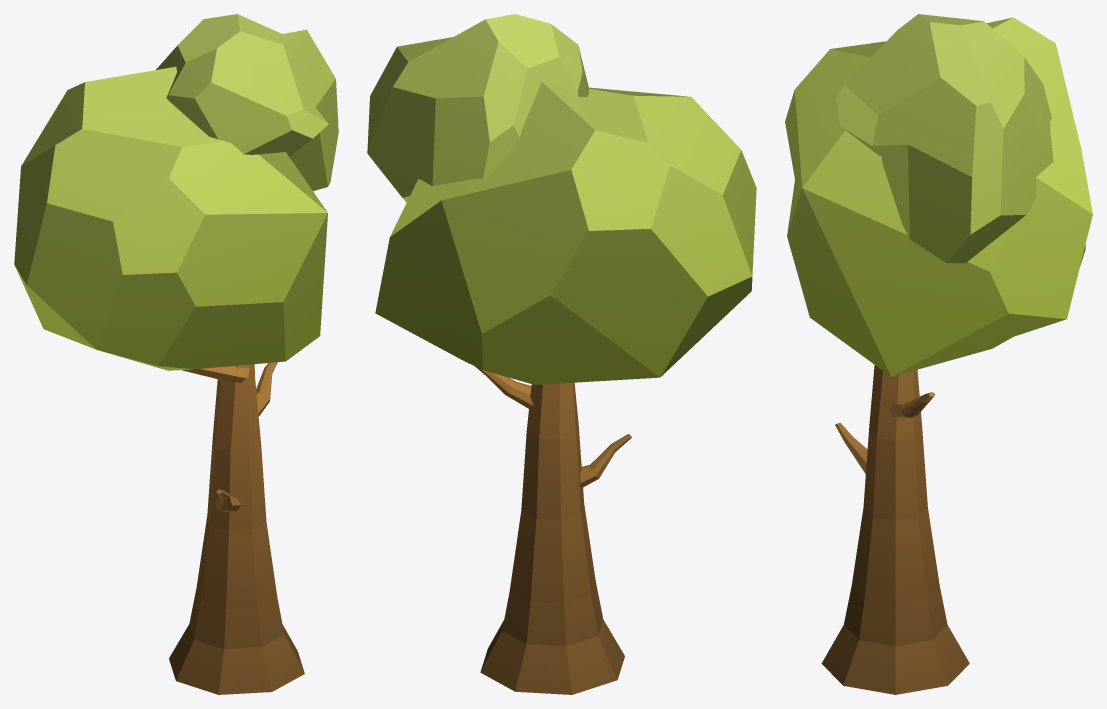
The model's file is Tree001.fbx.
3 views of the same model, side by side, from view 1: azimuth 30°, elevation 25°; view 2: azimuth 150°, elevation 25°; view 3: azimuth 270°, elevation 25° (orthographic). The views are drawn at different scales.
Parts seen in each view (by area): view 1: Icosphere.002; view 2: Icosphere.002; view 3: Icosphere.002.
Part boxes in pixels (left/top/right/bottom): Icosphere.002: left=14, top=14, right=338, bottom=694; Icosphere.002: left=367, top=14, right=756, bottom=694; Icosphere.002: left=785, top=14, right=1092, bottom=694.
Size of the model in its own units: 284 by 502 by 214.
